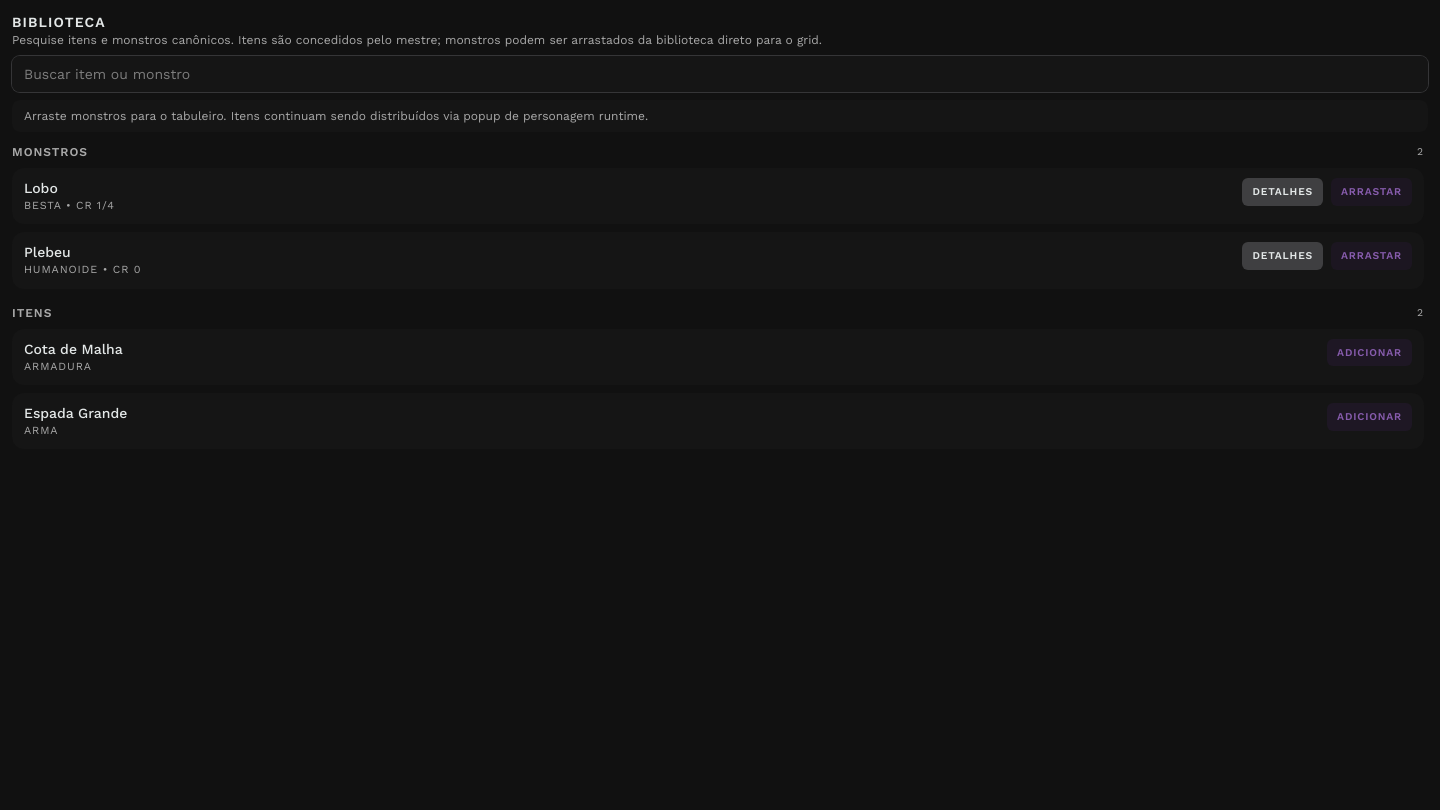
Test case: CompendiumPanel › abre o seletor de personagem para adicionar item usando apenas runtimes Player como alvo
Click the button "Adicionar" in the row of "Cota de Malha" at (1370, 352), box 1327,339 -> 1412,366
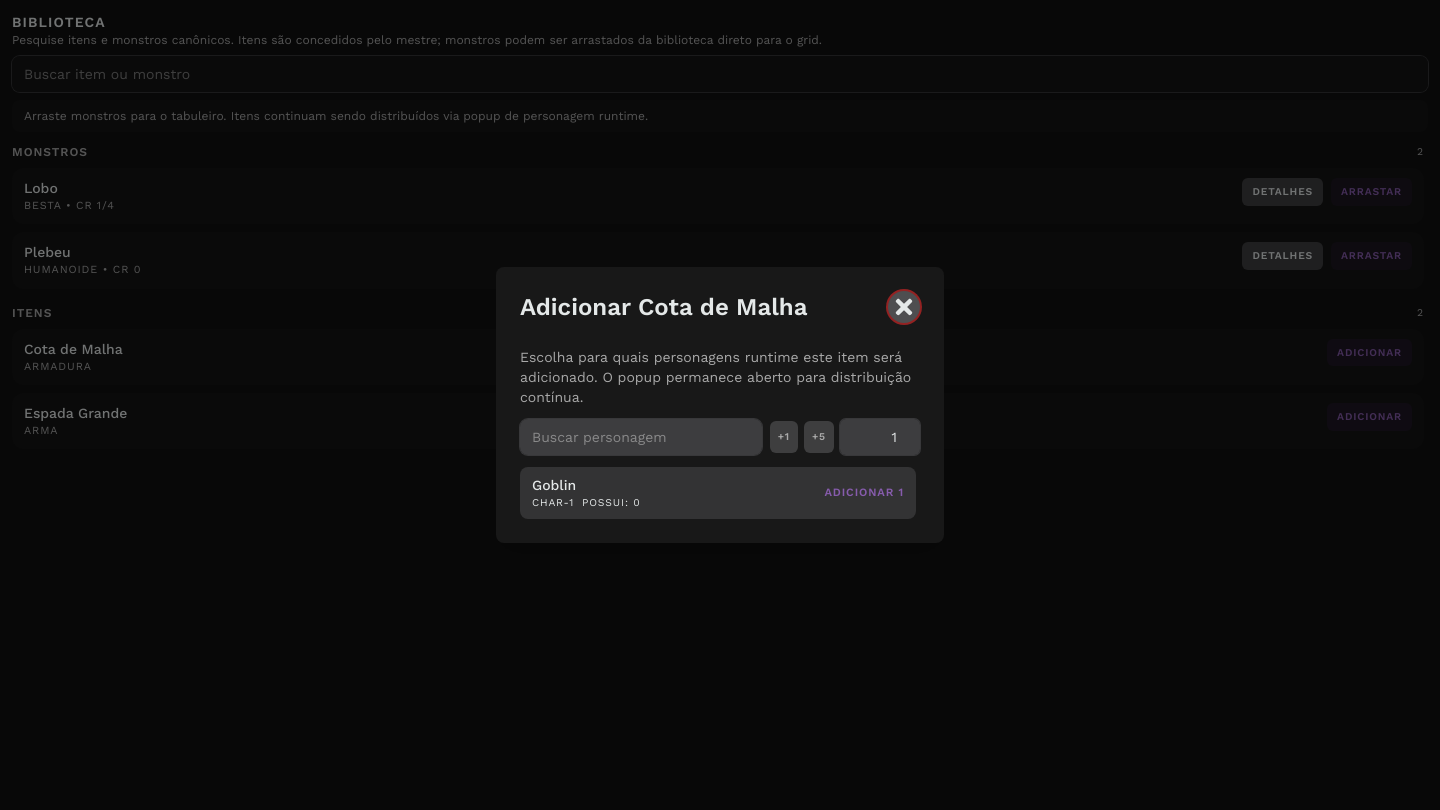
Now the dialog "Adicionar Cota de Malha" is shown, box 496,267 -> 944,543
Now the text "Goblin" is shown, box 532,475 -> 576,495
